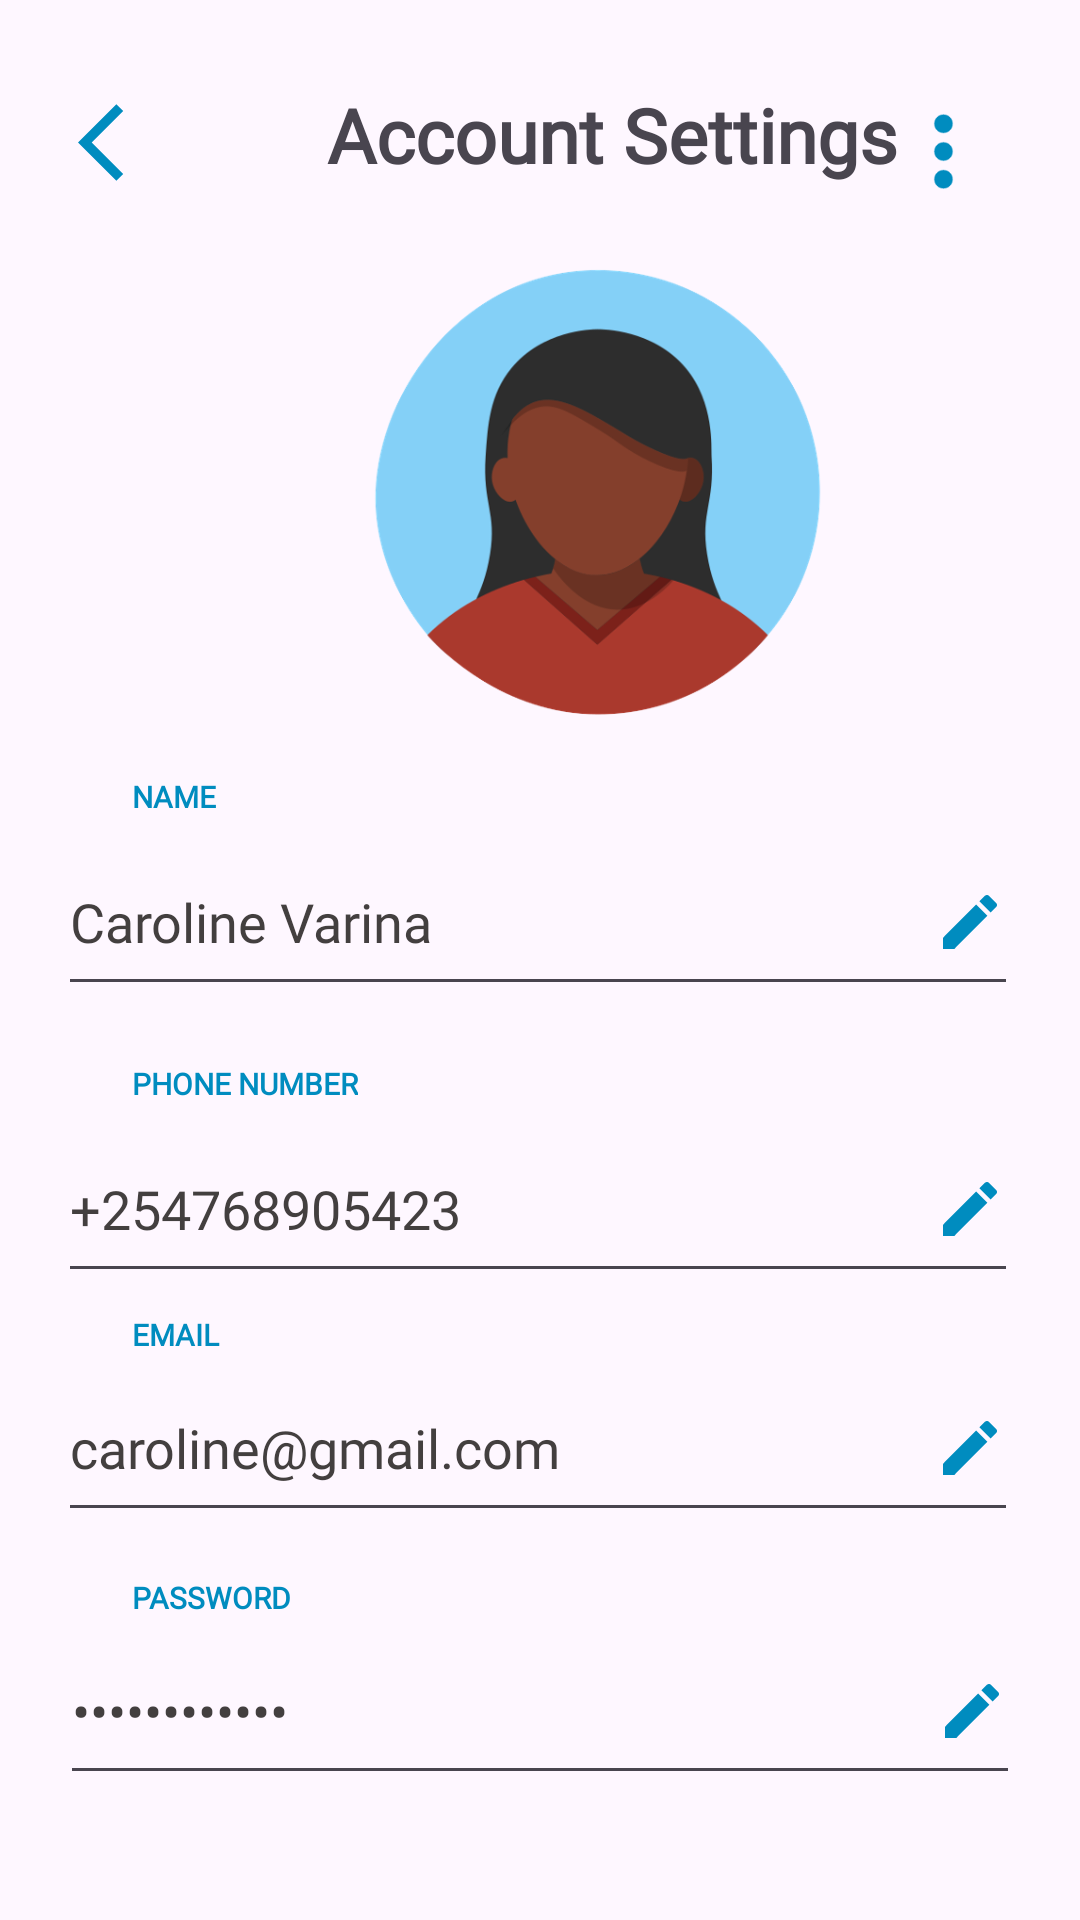

Icon bounding boxes for this 1080 × 1920 phone screenshot, format (x1, y1, x2, y2):
backarrow: (78, 104, 123, 181)
dots: (934, 114, 953, 189)
